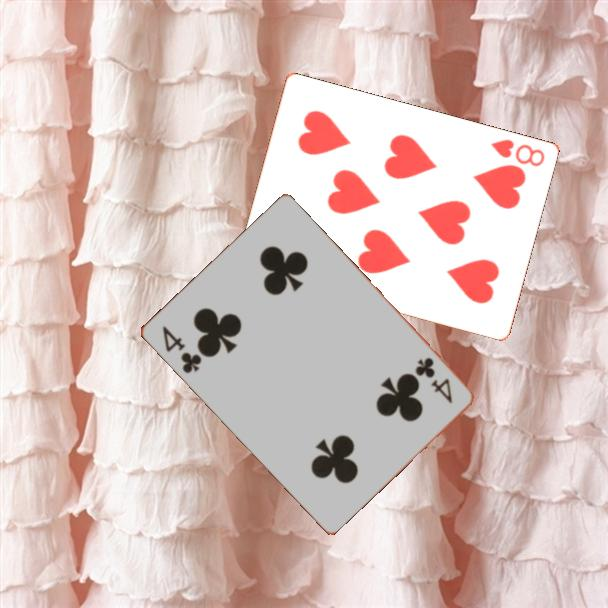c04: (158, 322, 204, 377), (411, 354, 455, 407)
h08: (487, 136, 547, 170)
